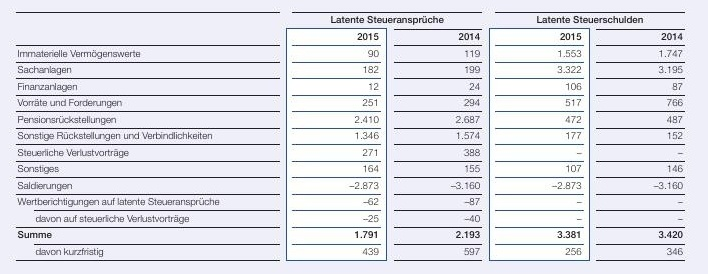table: (0, 0, 708, 274)
